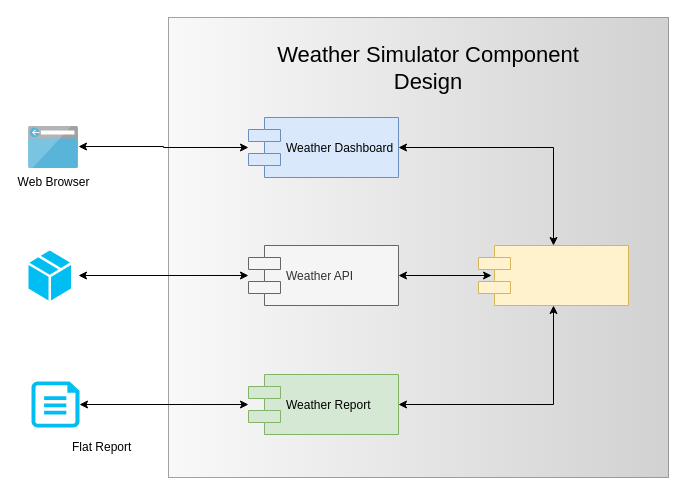
Image size: 686x495. Some labels were removed from this diagram. The shapes that lost their labels are listed below. From the top down, each one's centre as x and y in pixels, then its label:
At (49,275): "API client".
At (553,275): "Weather Simulator".
